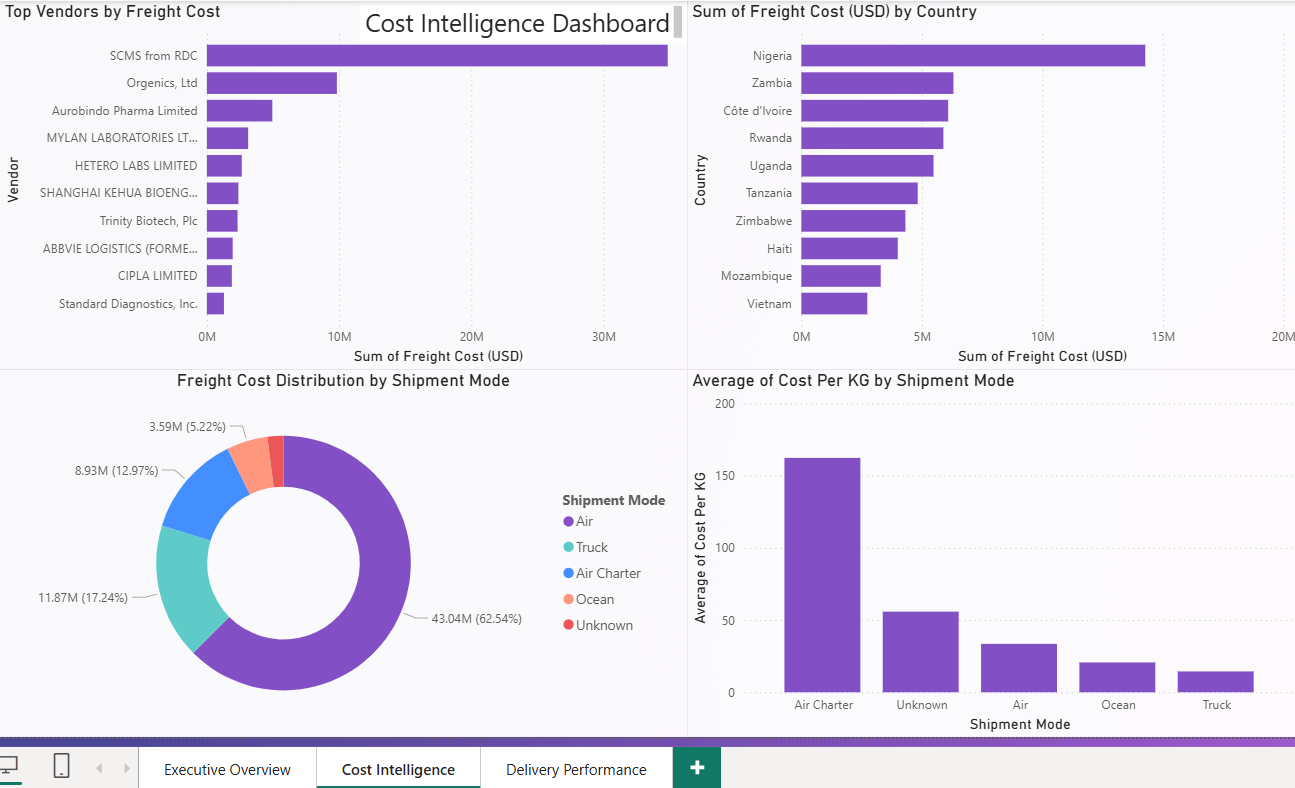

This screenshot's page, from the dashboard's own definition file:
{"tool":"powerbi","page":{"name":"Cost Intelligence","canvas":[1280,720],"ordinal":1},"visuals":[{"type":"clusteredBarChart","title":"Top Vendors by Freight Cost","fields":{"Category":["cleaned_shipments.Vendor"],"Y":["Sum(cleaned_shipments.Freight Cost (USD))"]},"box":[8.6,0,672.6,360.7],"z":0},{"type":"clusteredBarChart","fields":{"Category":["cleaned_shipments.Country"],"Y":["Sum(cleaned_shipments.Freight Cost (USD))"]},"box":[681.1,0,600.4,360.7],"z":1000},{"type":"donutChart","title":"Freight Cost Distribution by Shipment Mode","fields":{"Category":["cleaned_shipments.Shipment Mode"],"Y":["Sum(cleaned_shipments.Freight Cost (USD))"]},"box":[8.6,360.7,672.6,359.5],"z":2000},{"type":"clusteredColumnChart","fields":{"Y":["Avg(cleaned_shipments.Cost Per KG)"],"Category":["cleaned_shipments.Shipment Mode"]},"box":[681.1,360.7,600.4,359.5],"z":3000},{"type":"textbox","box":[360.7,0,320.4,41.6],"z":3001}]}

Visuals, with their boxes on the page's 1280x720 design canvas (x1, y1, x2, y2). These are canvas units, not pixel positions in the 1295x788 screenshot, which may show the page scaled, cropped or inside an application window:
"Top Vendors by Freight Cost" clusteredBarChart: {"left": 9, "top": 0, "right": 681, "bottom": 361}
clusteredBarChart - cleaned_shipments.Country x Sum(cleaned_shipments.Freight Cost (USD)): {"left": 681, "top": 0, "right": 1282, "bottom": 361}
"Freight Cost Distribution by Shipment Mode" donutChart: {"left": 9, "top": 361, "right": 681, "bottom": 720}
clusteredColumnChart - Avg(cleaned_shipments.Cost Per KG) x cleaned_shipments.Shipment Mode: {"left": 681, "top": 361, "right": 1282, "bottom": 720}
textbox: {"left": 361, "top": 0, "right": 681, "bottom": 42}
